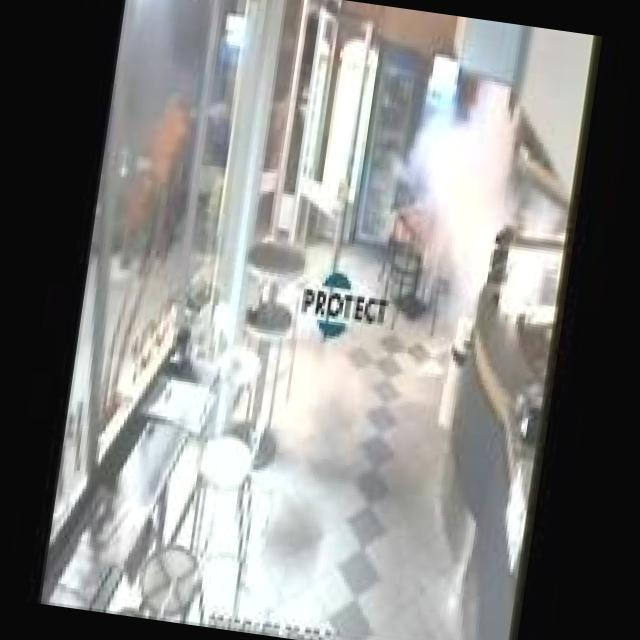smoke: (388, 84, 570, 358)
